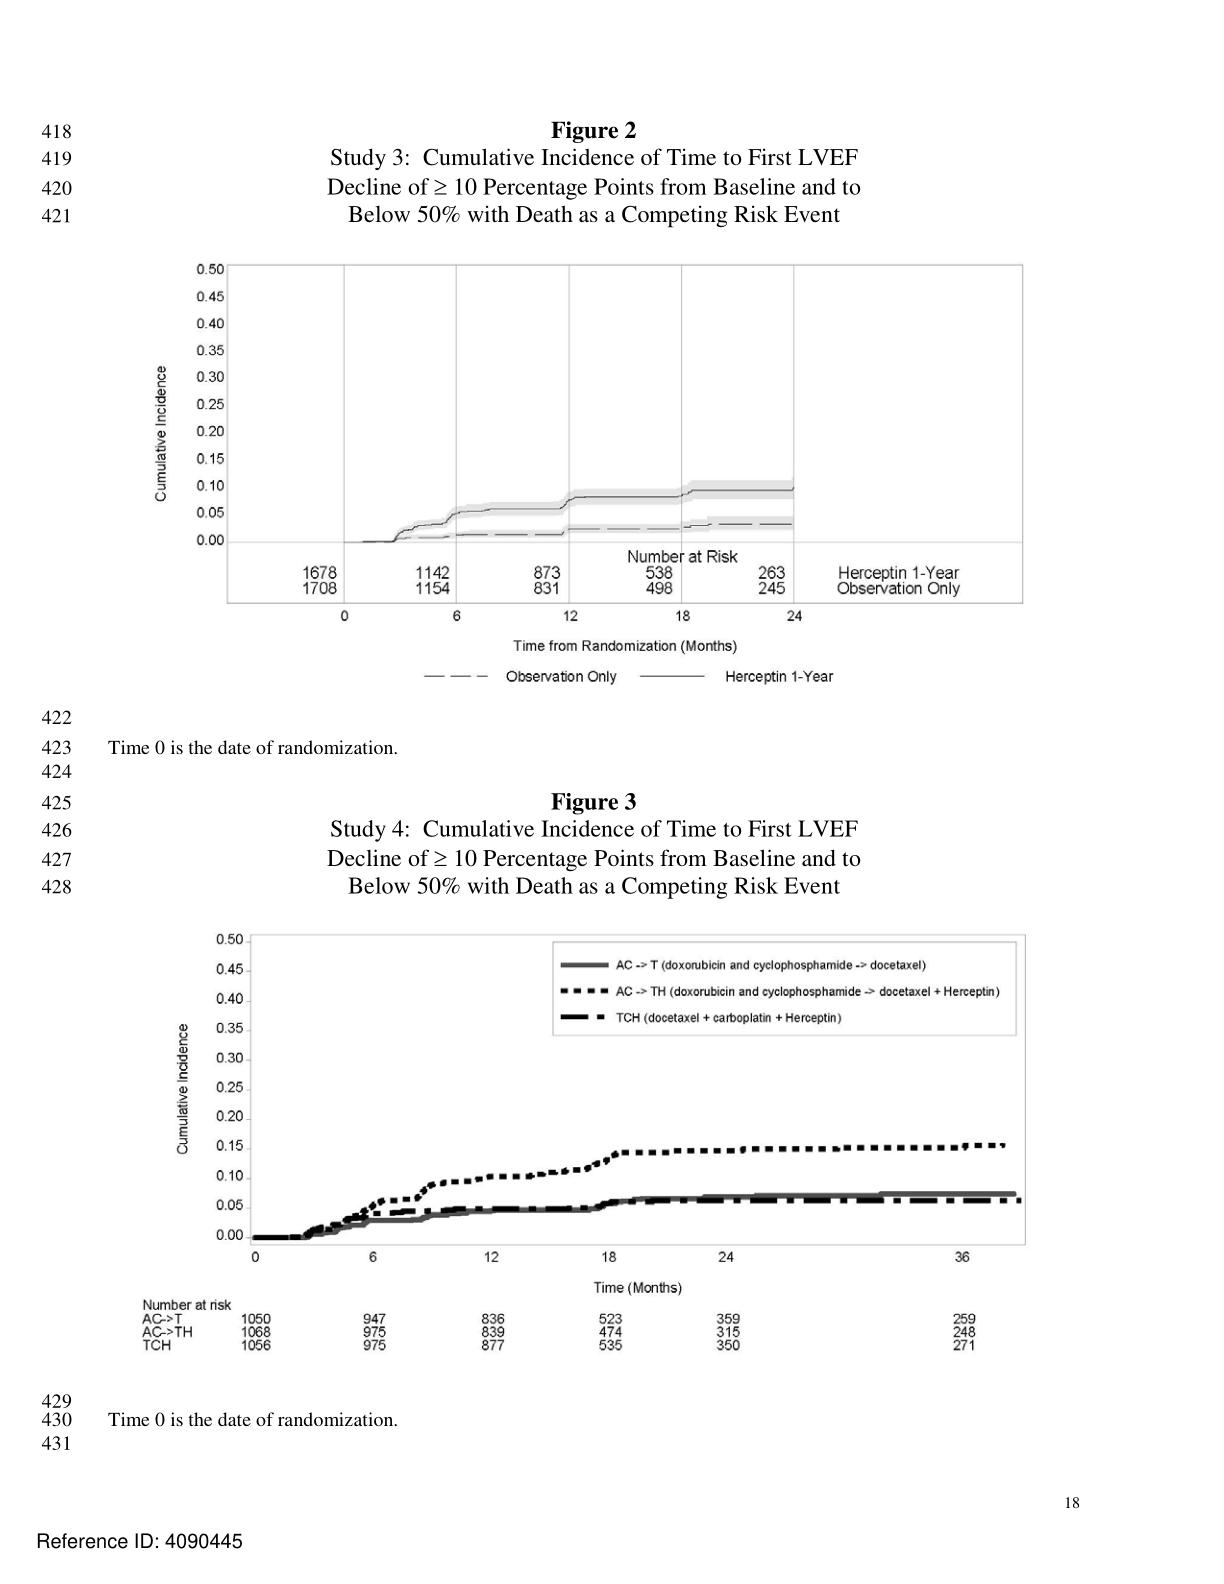nolines: (141, 1310, 984, 1355)
